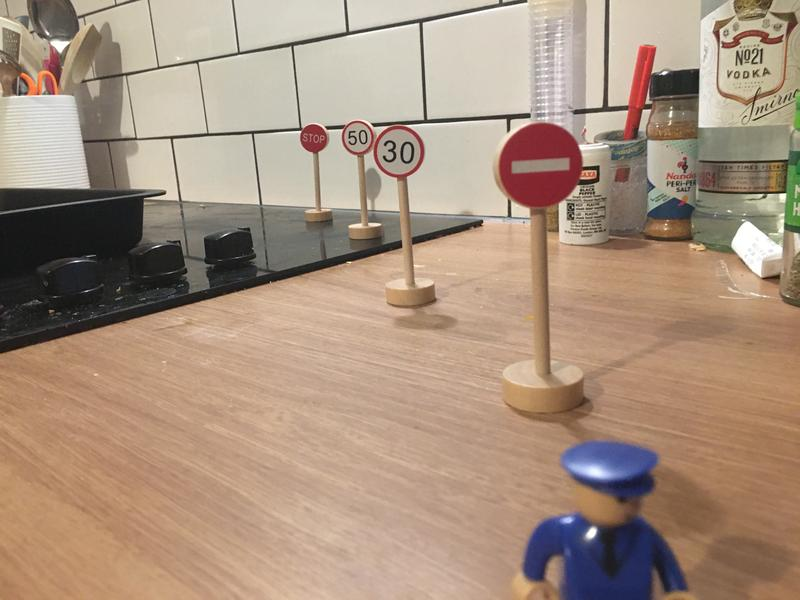Traffic_Sign_30: (374, 126, 422, 174)
Traffic_Sign_50: (341, 121, 373, 153)
Traffic_Sign_No_Entry: (498, 124, 581, 208)
Traffic_Sign_Stop: (301, 123, 328, 153)
person: (501, 434, 708, 600)
